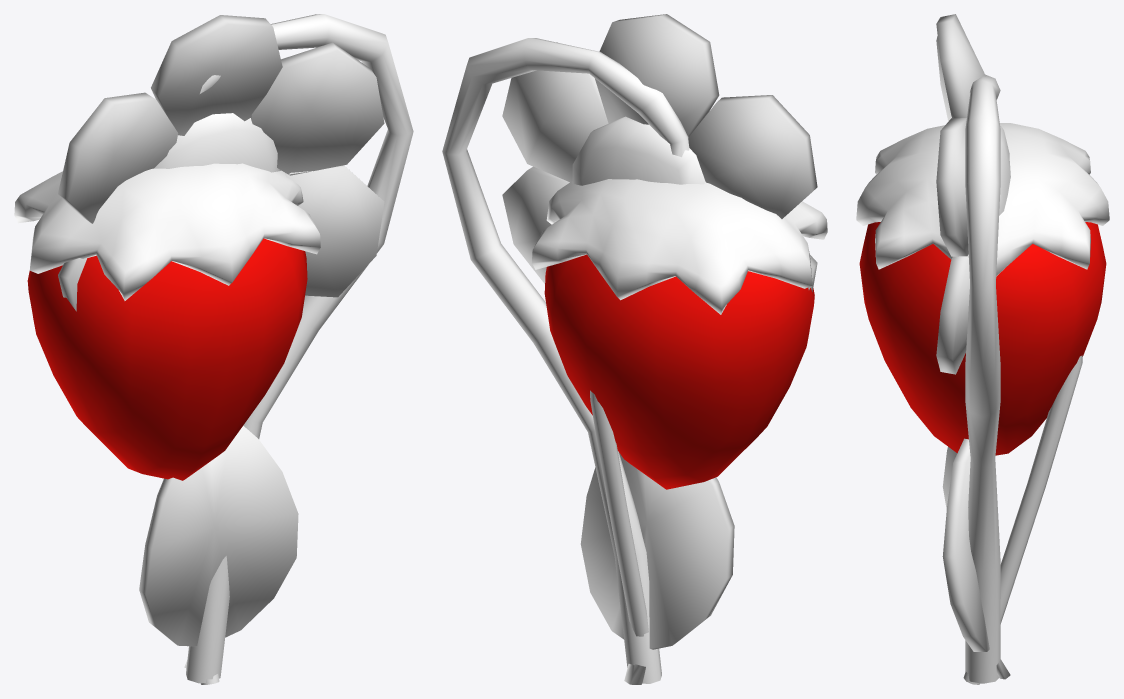
The model's file is Strawberry.fbx.
3 renders of one model, left to right at view 1: azimuth 30°, elevation 25°; view 2: azimuth 150°, elevation 25°; view 3: azimuth 270°, elevation 25°, orthographic. The views are drawn at different scales.
Parts seen in each view (by area): view 1: Morango, FlorMorango, Leaf; view 2: Morango, FlorMorango, Leaf; view 3: Morango, FlorMorango, Leaf.
Part boxes in pixels (left/top/right/bottom): Morango: left=14, top=14, right=413, bottom=683; FlorMorango: left=58, top=15, right=384, bottom=684; Leaf: left=139, top=425, right=298, bottom=668; Morango: left=442, top=38, right=827, bottom=683; FlorMorango: left=502, top=14, right=817, bottom=636; Leaf: left=580, top=452, right=734, bottom=684; Morango: left=856, top=74, right=1109, bottom=683; FlorMorango: left=936, top=14, right=1082, bottom=684; Leaf: left=942, top=438, right=1010, bottom=679.
Bounding box in the file's own units: 147 × 248 × 86.28.
